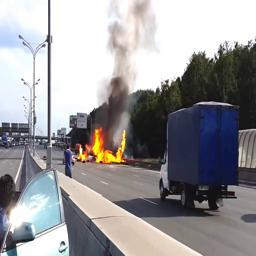fire: (77, 127, 127, 163)
